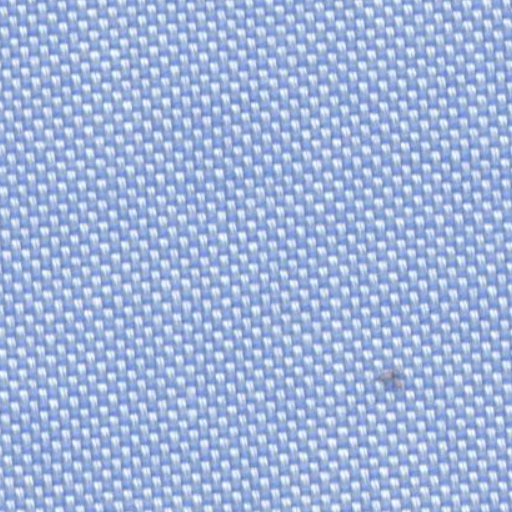WuZi: (368, 346, 424, 398)
